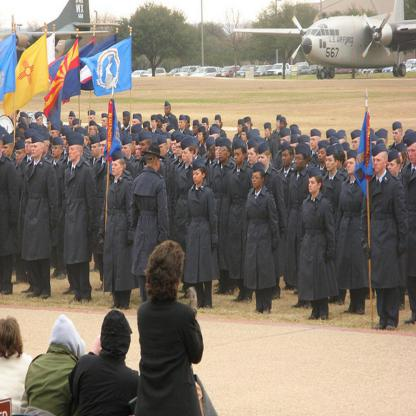face: (374, 154, 386, 173), (295, 154, 305, 172), (112, 159, 122, 177), (408, 142, 416, 164), (140, 138, 149, 156), (327, 155, 337, 171), (388, 161, 398, 177), (252, 173, 262, 189), (282, 151, 292, 167), (194, 168, 204, 184), (32, 143, 42, 158), (69, 145, 79, 160), (309, 177, 319, 192), (101, 140, 110, 156), (219, 146, 228, 162), (235, 149, 244, 165), (258, 154, 268, 168), (348, 159, 357, 174), (249, 149, 258, 164), (183, 148, 192, 163), (3, 144, 12, 158), (16, 149, 25, 163), (52, 144, 61, 158), (122, 144, 131, 158), (353, 137, 361, 152), (340, 151, 348, 166), (208, 145, 216, 160), (176, 142, 184, 157), (26, 138, 33, 154), (319, 148, 327, 162), (159, 144, 167, 158), (394, 129, 402, 142), (92, 143, 100, 156), (281, 136, 289, 149), (311, 136, 319, 149), (291, 143, 299, 156), (172, 140, 179, 154), (137, 144, 143, 159), (61, 136, 68, 148), (131, 140, 137, 154), (42, 139, 47, 155), (90, 125, 96, 138), (215, 146, 221, 159), (51, 130, 58, 141), (21, 116, 28, 127), (73, 123, 79, 135), (134, 120, 141, 130), (19, 128, 26, 138), (66, 142, 72, 153), (69, 115, 75, 126), (18, 122, 25, 131), (179, 120, 185, 130), (88, 115, 95, 123), (199, 131, 204, 142), (37, 117, 43, 126), (47, 121, 53, 130), (202, 122, 208, 131), (103, 118, 108, 128), (163, 124, 168, 134), (152, 120, 158, 128), (165, 106, 171, 114), (16, 136, 21, 145), (123, 116, 128, 125), (194, 125, 199, 134), (144, 127, 150, 134), (265, 129, 270, 137), (280, 122, 285, 130), (157, 119, 162, 127), (215, 120, 220, 128), (238, 125, 243, 133), (245, 123, 250, 131), (243, 133, 248, 141), (184, 120, 188, 129), (277, 120, 280, 128)
